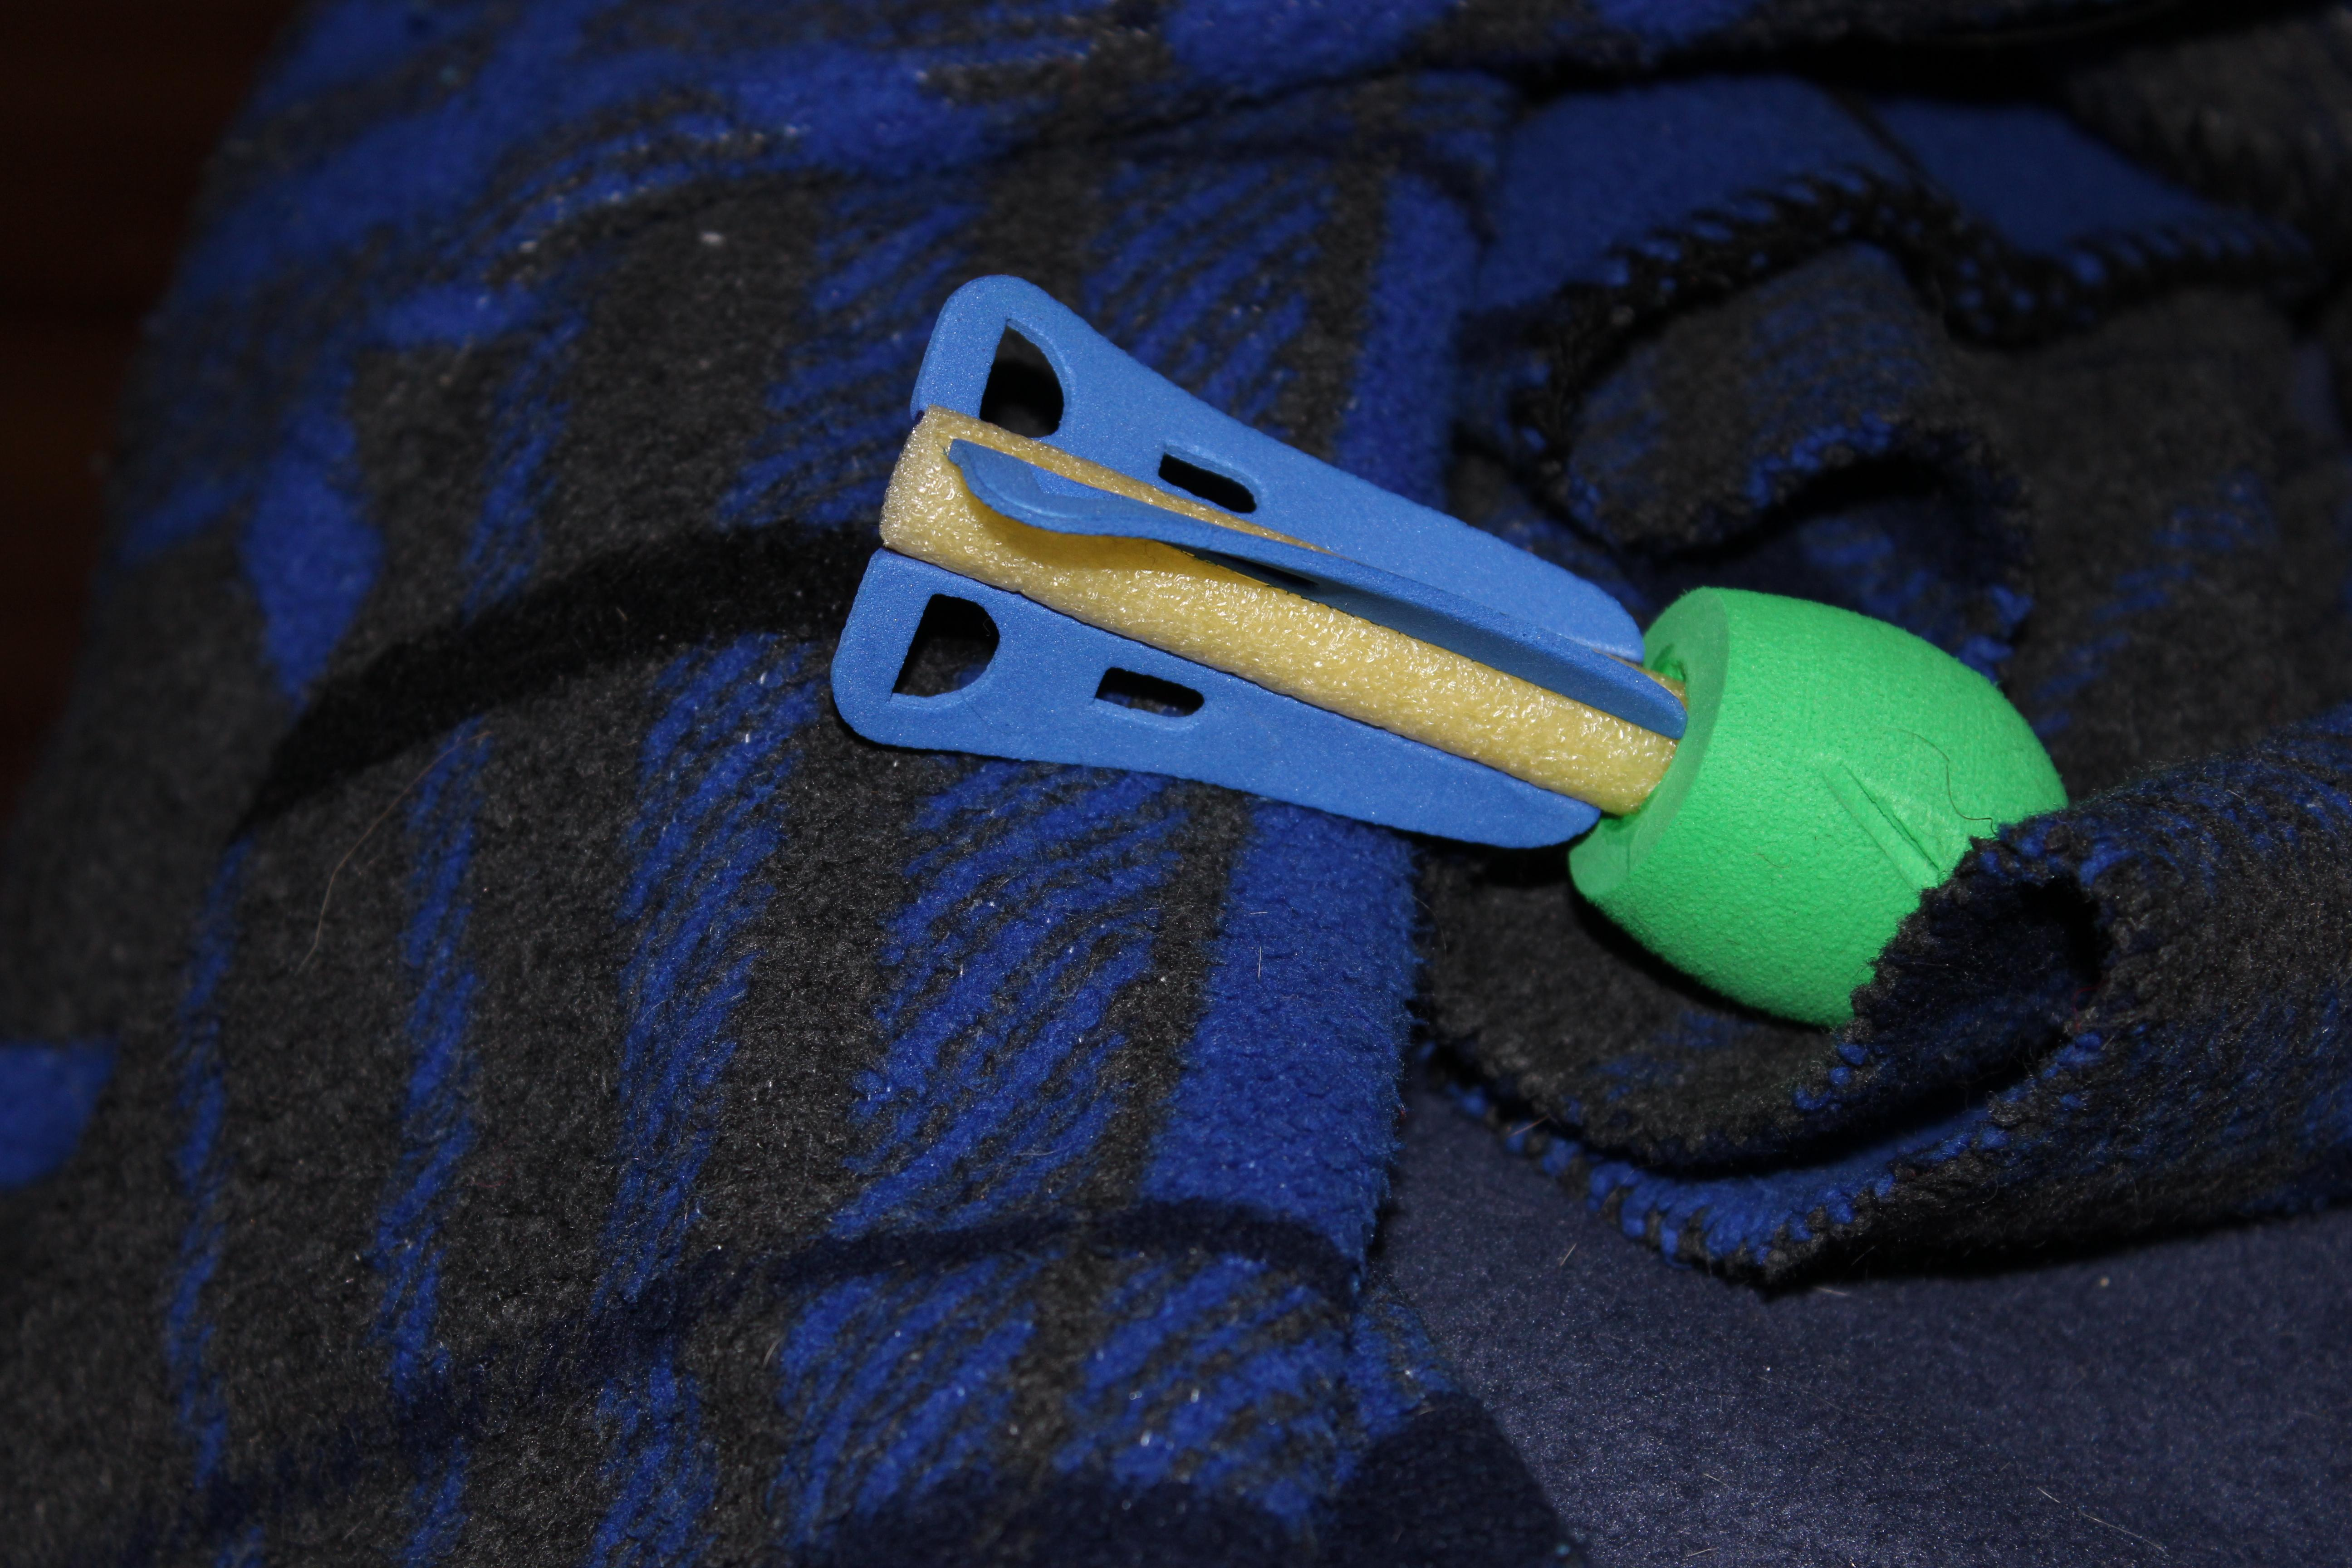foamDart: (807, 240, 2170, 1073)
